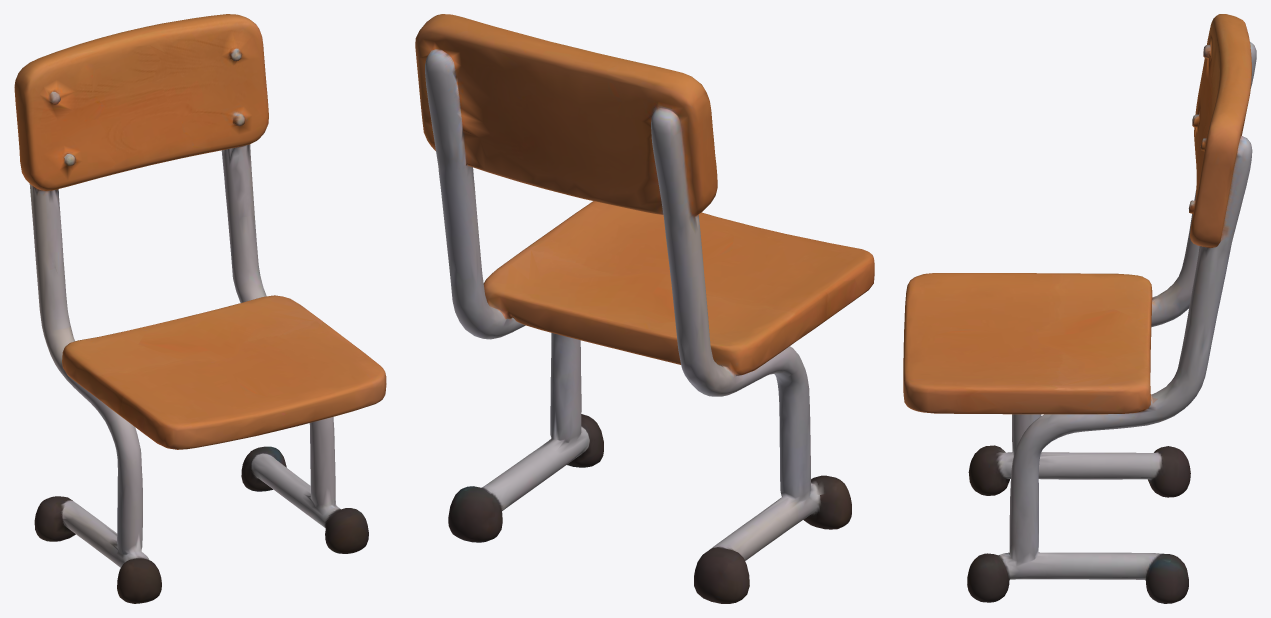
The model's file is chair-v2.glb.
The picture shows the model from 3 angles, left to right: view 1: azimuth 30°, elevation 25°; view 2: azimuth 150°, elevation 25°; view 3: azimuth 270°, elevation 25°; orthographic projection. The views are drawn at different scales.
Visible parts, largest first — view 1: ChairBody; view 2: ChairBody; view 3: ChairBody.
Part boxes in pixels (x1=…): ChairBody: x1=14, y1=14, x2=386, y2=603; ChairBody: x1=415, y1=14, x2=874, y2=603; ChairBody: x1=903, y1=14, x2=1256, y2=603.
Size of the model in its own units: 0.5599 by 0.987 by 0.6523.
1 material, 1 textured.
